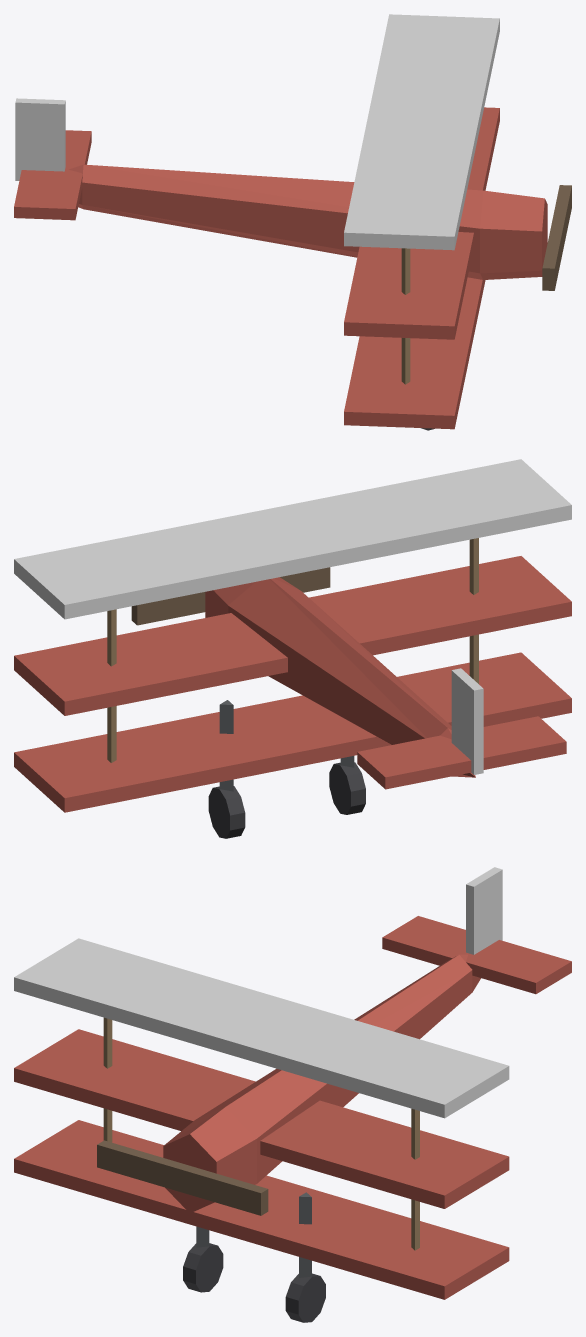
The model's file is triplane.glb.
3 views of the same model, one above another, from view 1: azimuth 30°, elevation 25°; view 2: azimuth 150°, elevation 25°; view 3: azimuth 270°, elevation 25° (orthographic). The views are drawn at different scales.
Parts seen in each view (by area): view 1: LOD0; view 2: LOD0; view 3: LOD0.
Part boxes in pixels (<box>): LOD0: <box>14,14,571,430</box>; LOD0: <box>14,459,571,838</box>; LOD0: <box>14,867,571,1322</box>.
Size of what is drawn, in the model's own units: 0.9331 by 0.51 by 0.8914.
